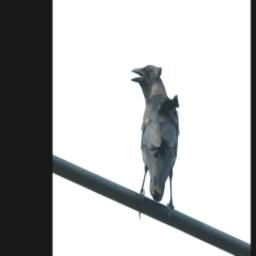Crow: (131, 59, 180, 223)
